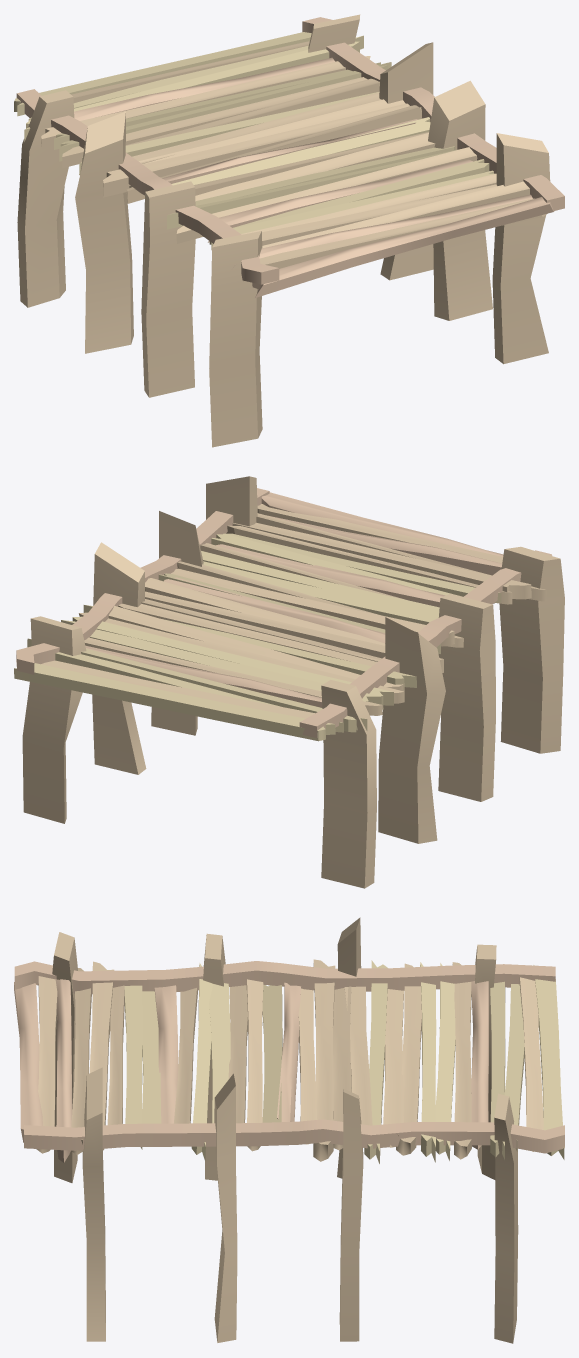
The model's file is puente.obj.
The picture shows the model from 3 angles, top to bottom: view 1: azimuth 30°, elevation 25°; view 2: azimuth 150°, elevation 25°; view 3: azimuth 270°, elevation 25°; orthographic projection. The views are drawn at different scales.
Parts seen in each view (by area): view 1: Boat_Dock; view 2: Boat_Dock; view 3: Boat_Dock.
Boxes of the visible parts, x1=… form: Boat_Dock: x1=14, y1=14, x2=564, y2=447; Boat_Dock: x1=14, y1=476, x2=564, y2=888; Boat_Dock: x1=14, y1=917, x2=564, y2=1343.
Bounding box in the file's own units: 4.43 × 2.63 × 5.26.
3 materials, 3 textured.
